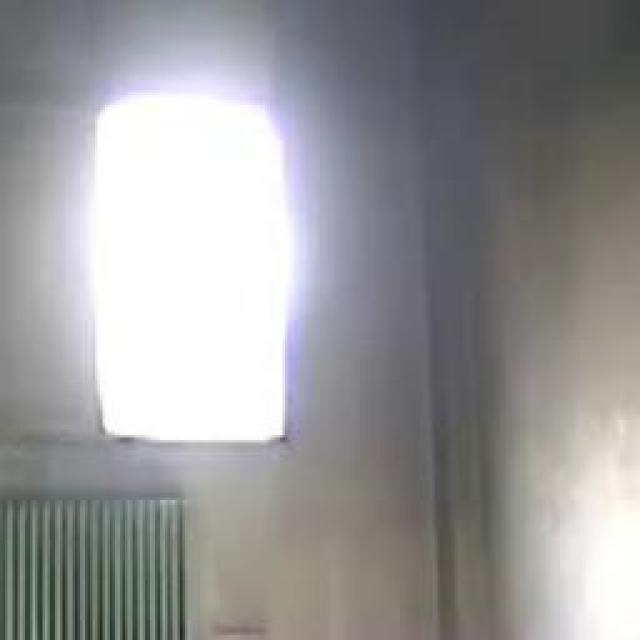other: (67, 82, 314, 467)
